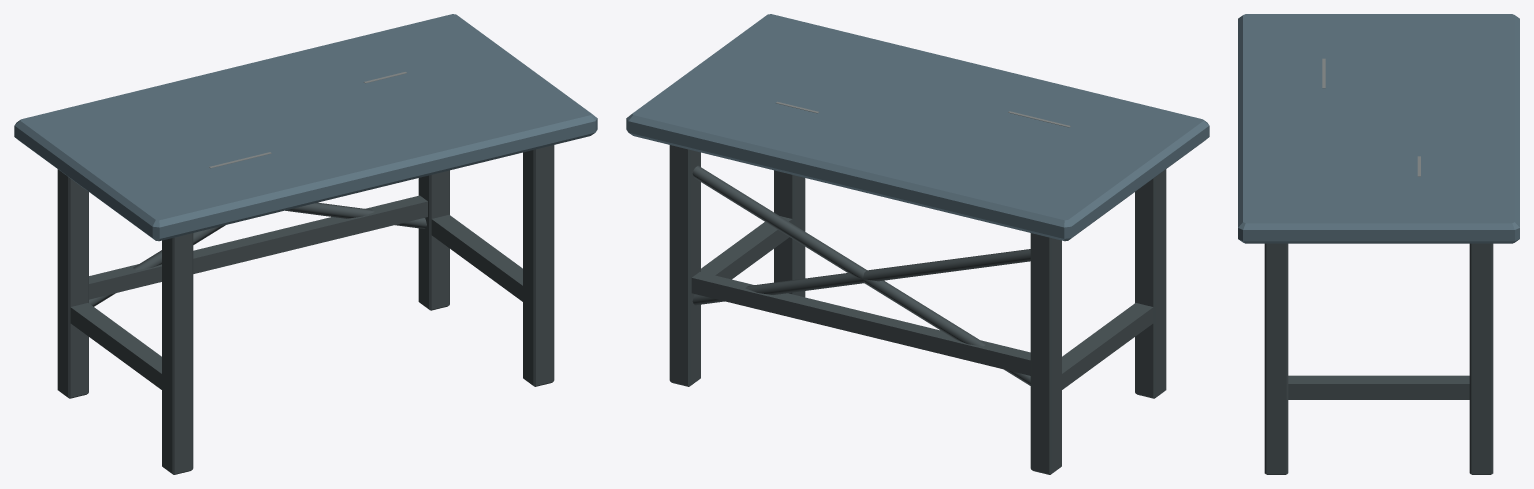
The model's file is L02_InspectionTable.fbx.
The picture shows the model from 3 angles, left to right: view 1: azimuth 30°, elevation 25°; view 2: azimuth 150°, elevation 25°; view 3: azimuth 270°, elevation 25°; orthographic projection.
Parts seen in each view (by area): view 1: L02_InspectionTable; view 2: L02_InspectionTable; view 3: L02_InspectionTable.
Boxes of the visible parts, <box> form: L02_InspectionTable: <box>14,14,597,474</box>; L02_InspectionTable: <box>626,14,1209,474</box>; L02_InspectionTable: <box>1238,14,1519,474</box>.
Bounding box in the file's own units: 1.38 × 0.801 × 0.77.
